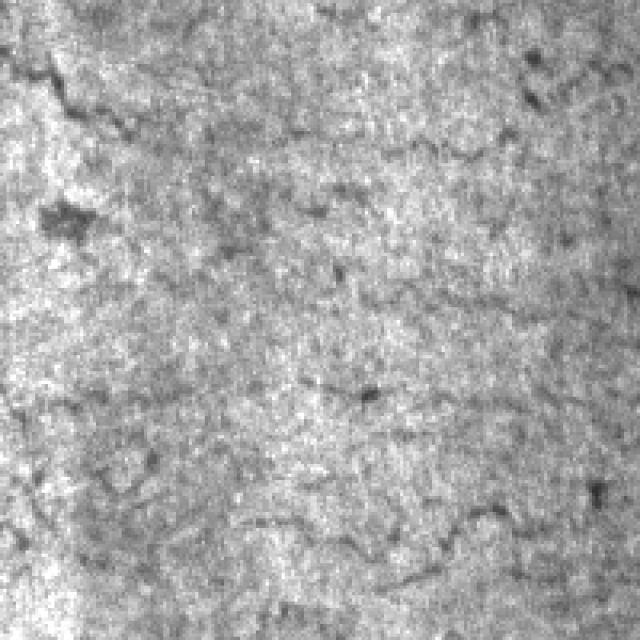crazing: (10, 38, 640, 348), (218, 378, 630, 592)
